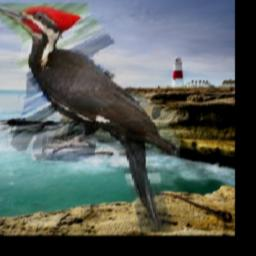Woodpecker: (0, 3, 180, 232)
